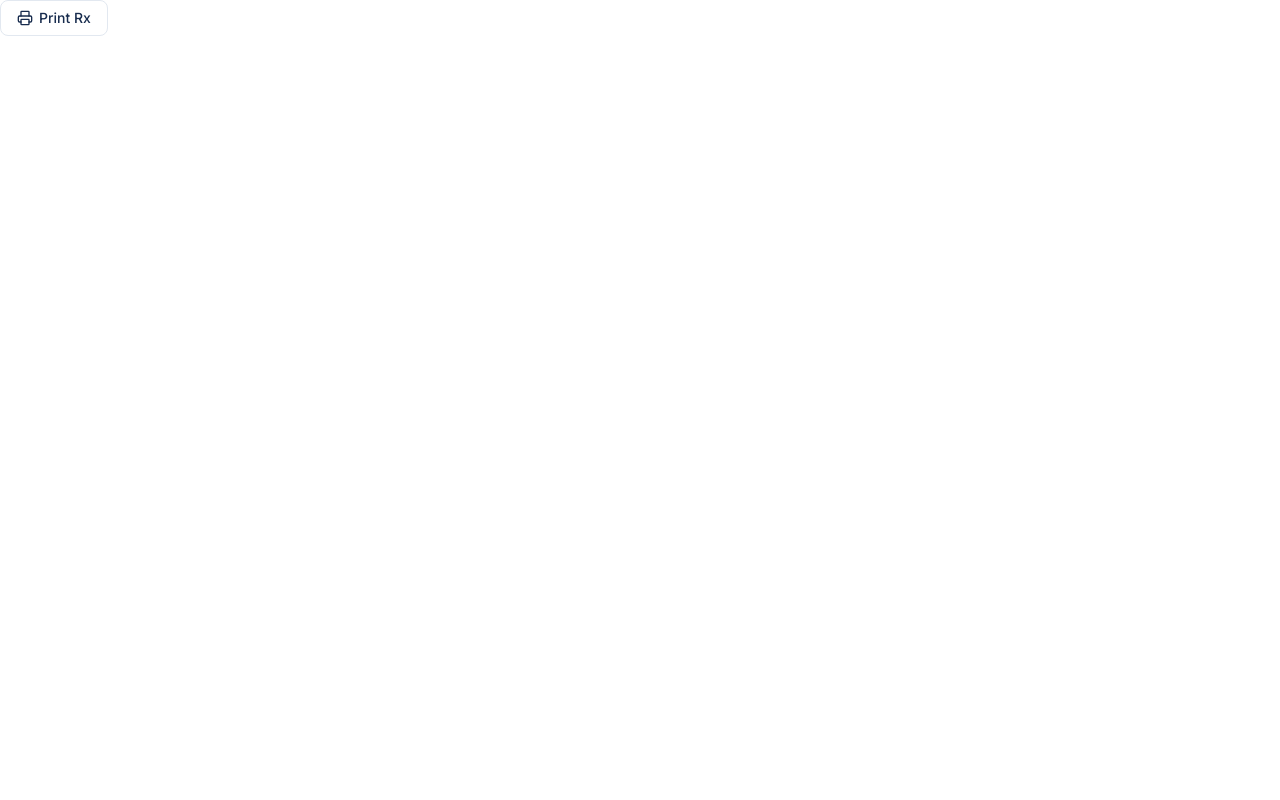
Test: PrintRxButton › opens a modal with the shared #rx-print-area letterhead
The image size is (1280, 800).
Click the button "Print Rx": click(54, 18) top-left (0, 0), bottom-right (108, 36)
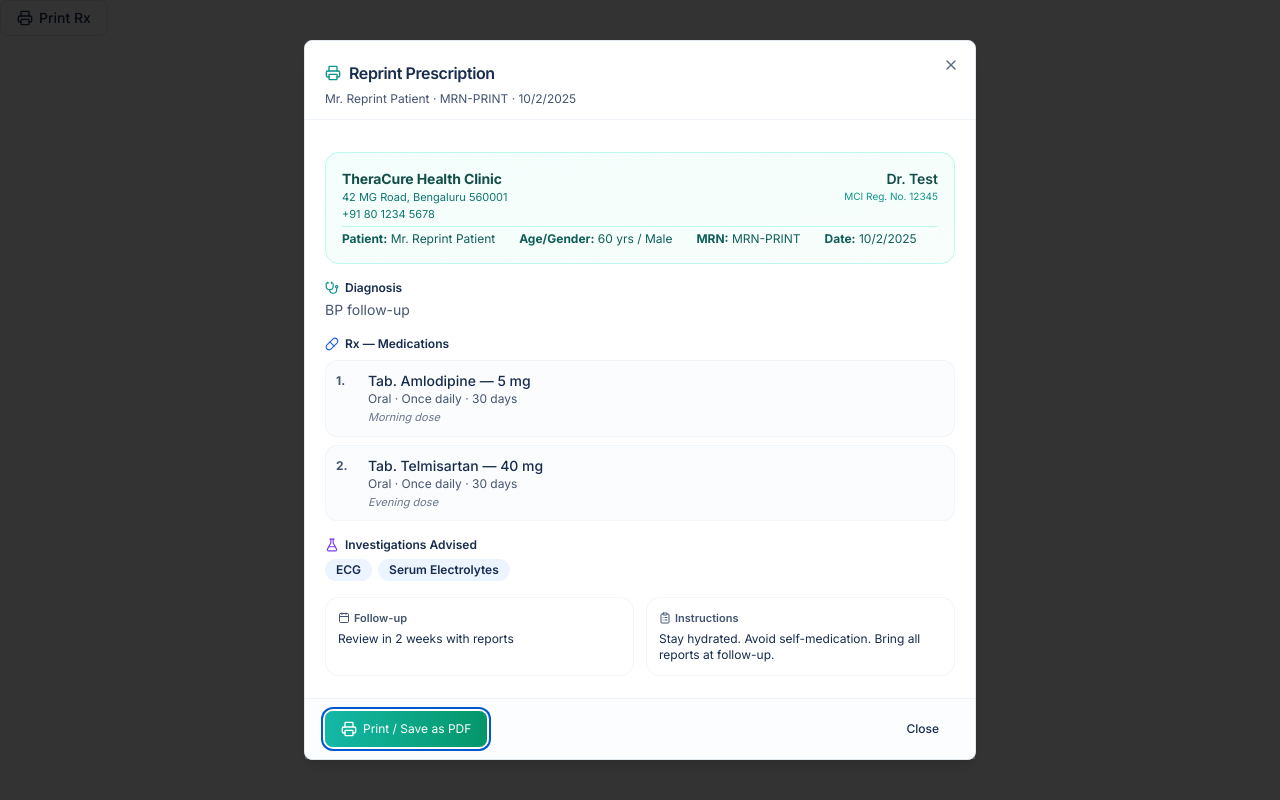
Result: the heading "Reprint Prescription" is shown at top-left (325, 63), bottom-right (495, 83)
Result: the text "Mr. Reprint Patient · MRN-PRINT · 10/2/2025" is shown at top-left (325, 91), bottom-right (576, 106)
Result: the text "BP follow-up" is shown at top-left (325, 301), bottom-right (410, 318)
